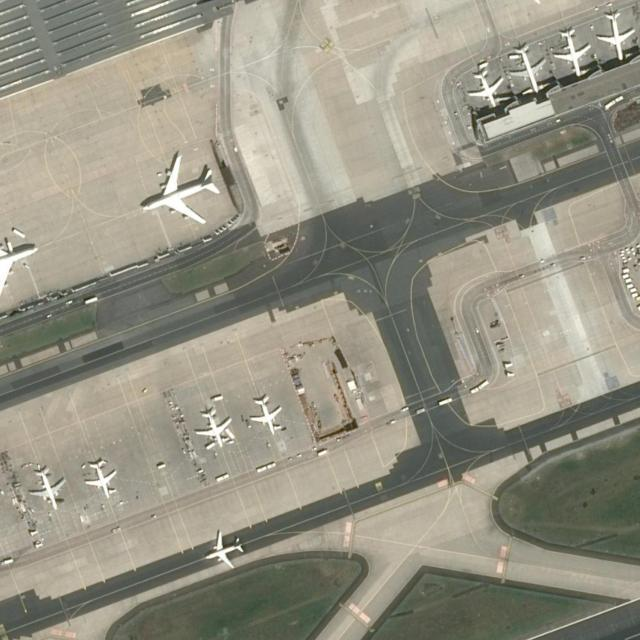Aircraft: (136, 150, 216, 227), (1, 230, 41, 293), (200, 529, 251, 573), (598, 8, 638, 62), (509, 42, 550, 93), (554, 36, 594, 82), (28, 463, 68, 507), (243, 394, 287, 434), (196, 408, 232, 454), (469, 63, 504, 110), (84, 459, 118, 502)
